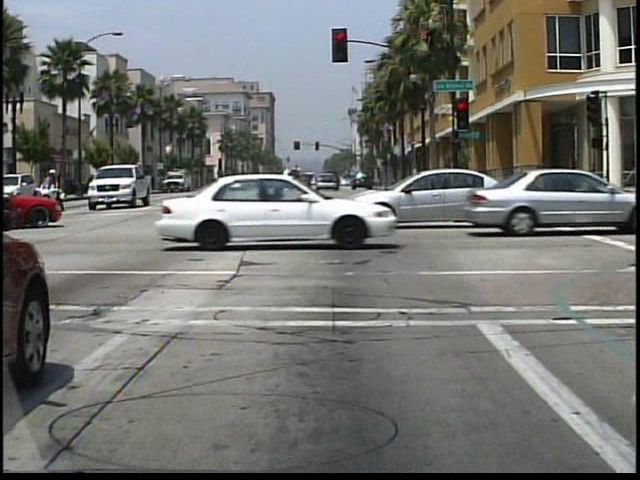person: (41, 167, 67, 214)
